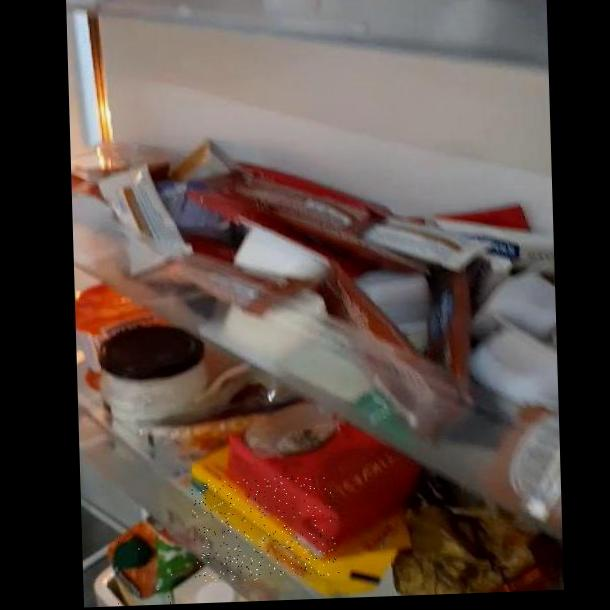butter: (191, 474, 340, 582)
juice: (104, 527, 177, 607)
